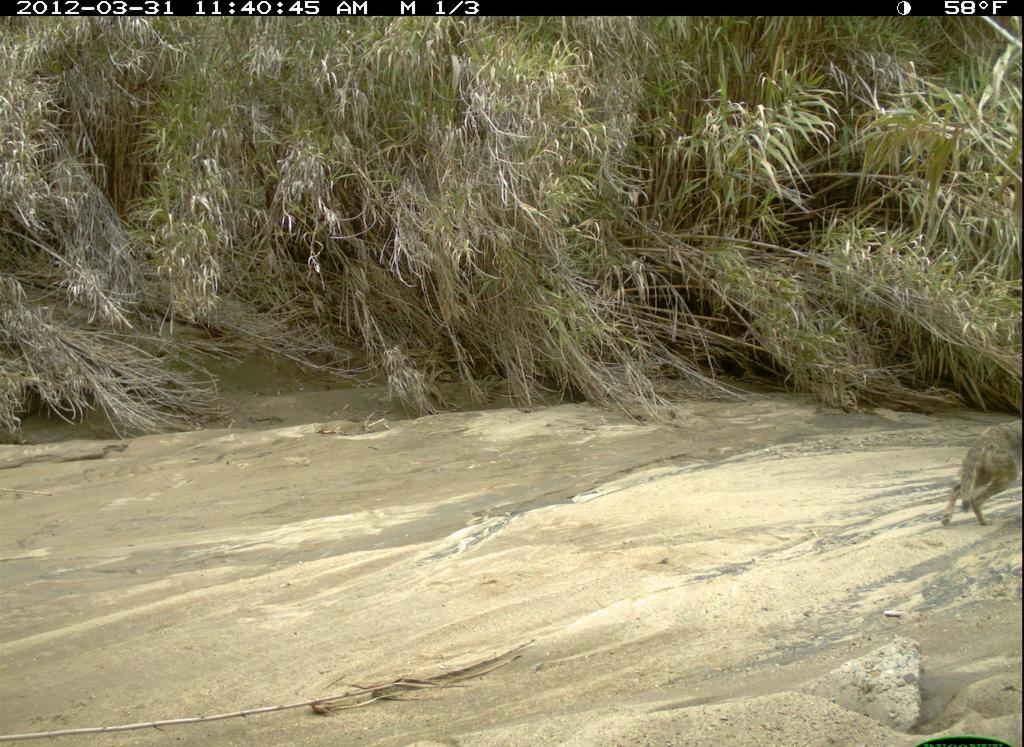coyote: (923, 383, 1024, 542)
